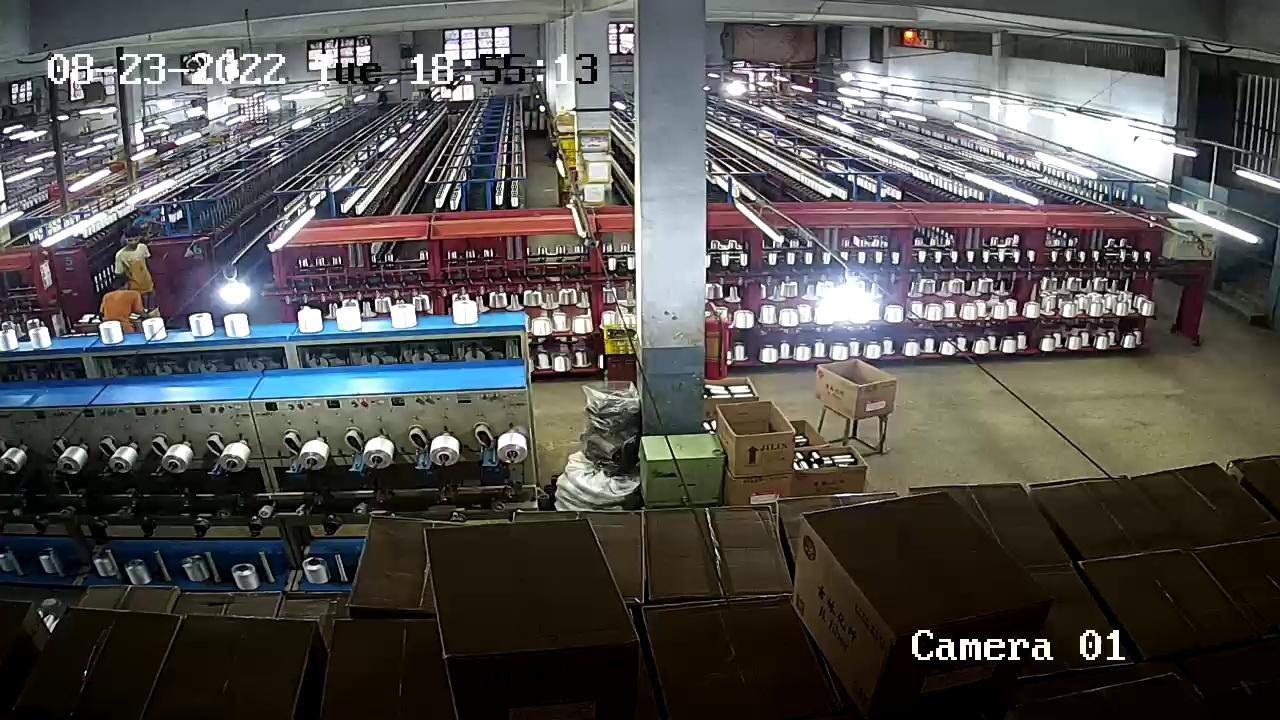person: (111, 225, 165, 300), (97, 280, 147, 327)
